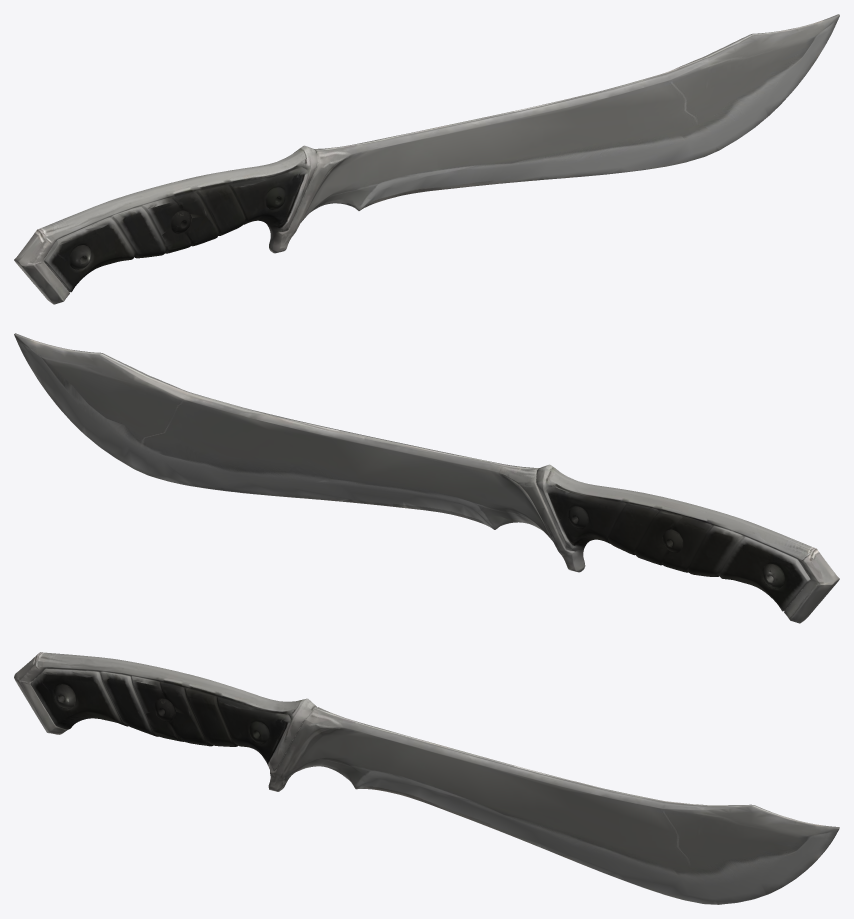
File: knife_machete.glb
3 renders of one model, top to bottom at view 1: azimuth 30°, elevation 25°; view 2: azimuth 150°, elevation 25°; view 3: azimuth 330°, elevation 25°, orthographic.
Parts seen in each view (by area): view 1: knife_mesh; view 2: knife_mesh; view 3: knife_mesh.
Part boxes in pixels (box(x1,y1,x2,y2)): knife_mesh: box(14, 14, 839, 304); knife_mesh: box(14, 333, 839, 623); knife_mesh: box(14, 652, 839, 904).
Size of the model in its own units: 1.19 by 0.1531 by 0.056.
Materials: 1 (1 with a texture image).
